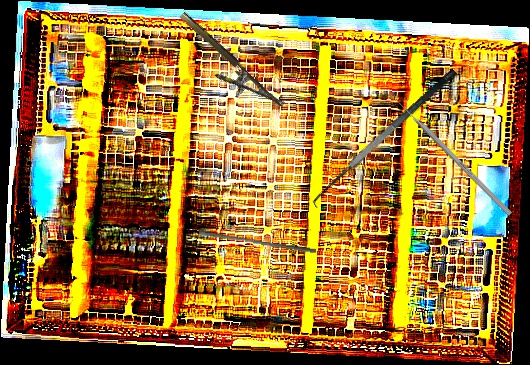Needle Holder: (166, 10, 286, 124)
Pusher: (388, 92, 513, 216), (197, 229, 318, 254)
Spatula Surgical: (305, 67, 469, 215)
